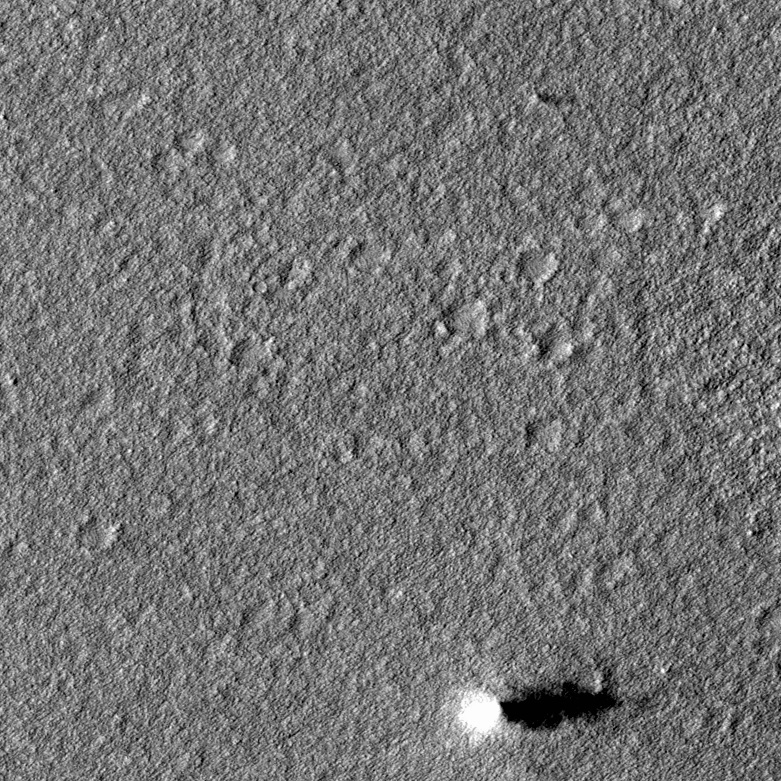dust_devil: (455, 677, 620, 740)
